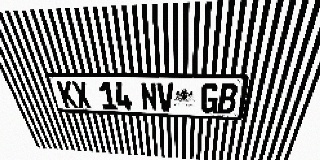1: (97, 81, 117, 110)
4: (113, 82, 132, 110)
B: (217, 83, 239, 114)
G: (200, 83, 220, 113)
K: (56, 81, 78, 108)
N: (140, 82, 158, 111)
V: (157, 82, 174, 112)
X: (71, 81, 92, 109)
